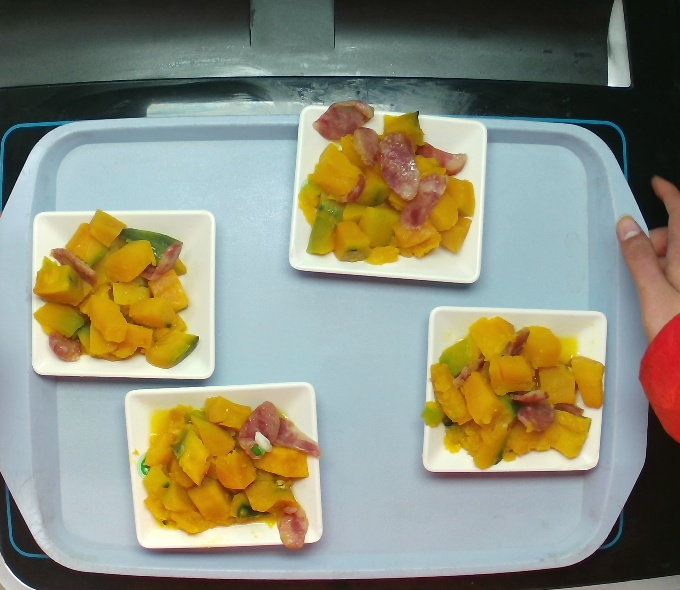wcq-NanGuaChaoXiangChang: (290, 99, 483, 266), (133, 393, 321, 546), (434, 313, 591, 480), (36, 217, 193, 369)
